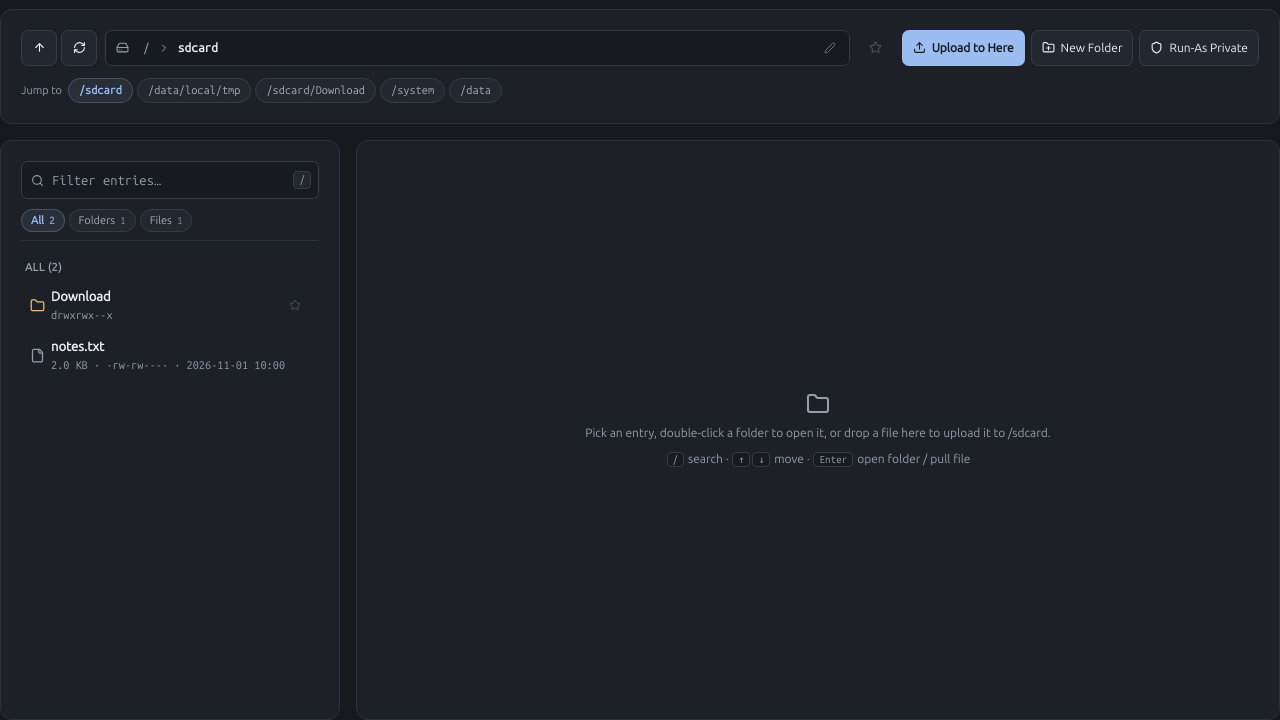
FilesPage workbench › confirms and pushes an upload from the drop to the current directory
(page scrolled)
Expected: the text "notes.txt" is shown, [51,339,104,353]
What coordinates should you click on to do the following:
click the button "/sdcard/Download"
I would click on:
 (316, 90)
Its box is [255,78,376,103].
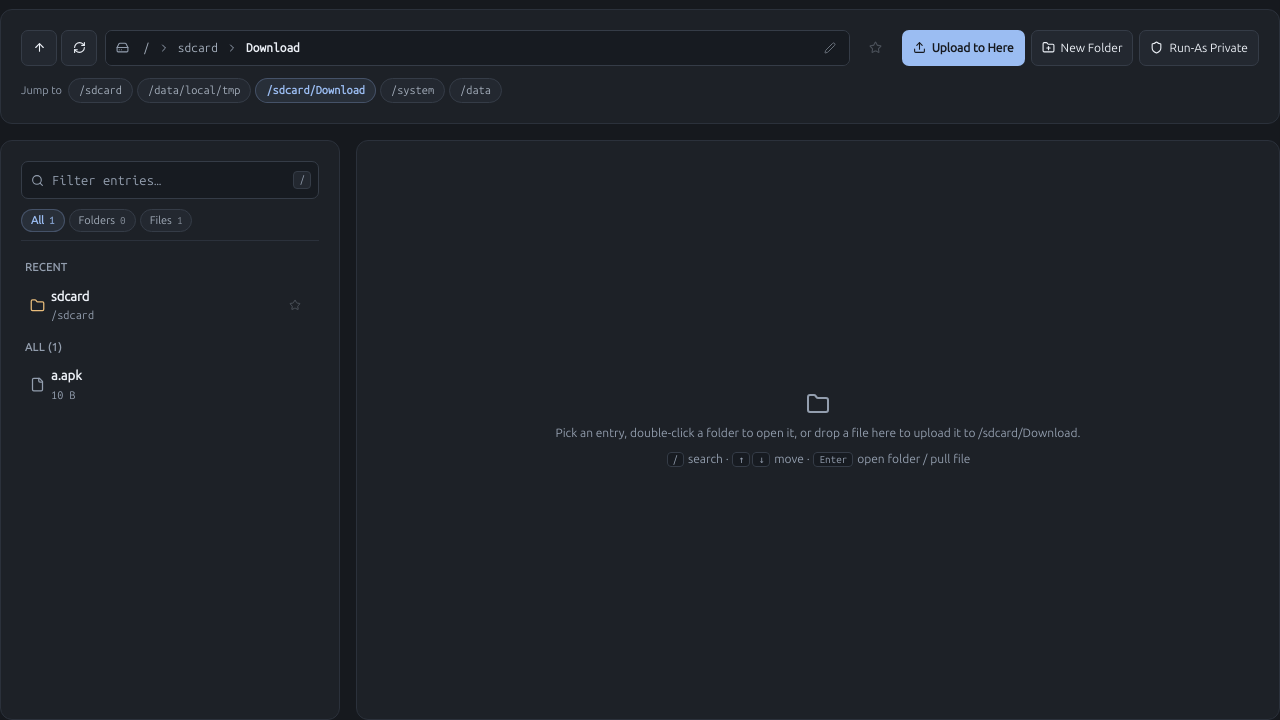
Now the text "a.apk" is shown, box [51,368,82,382]
